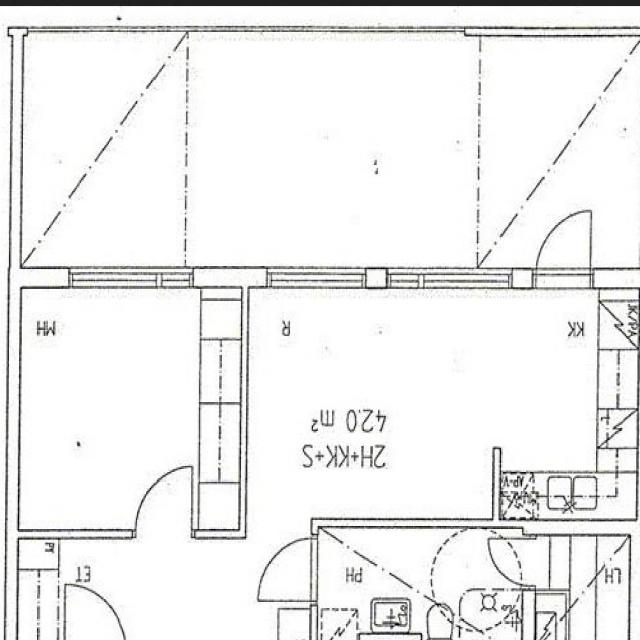door: (536, 203, 590, 288), (135, 462, 192, 539), (258, 539, 318, 600), (64, 581, 126, 640), (489, 540, 534, 586)
